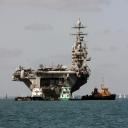Portanaves: (12, 18, 91, 98)
